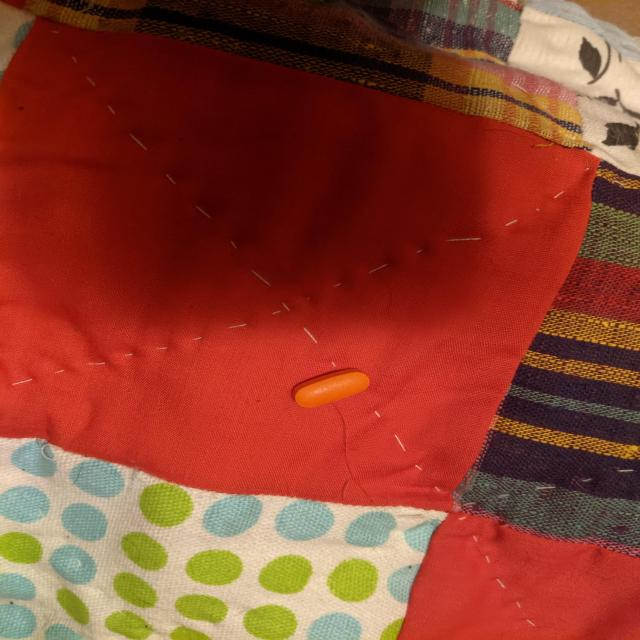non-organic waste: (291, 367, 371, 408)
